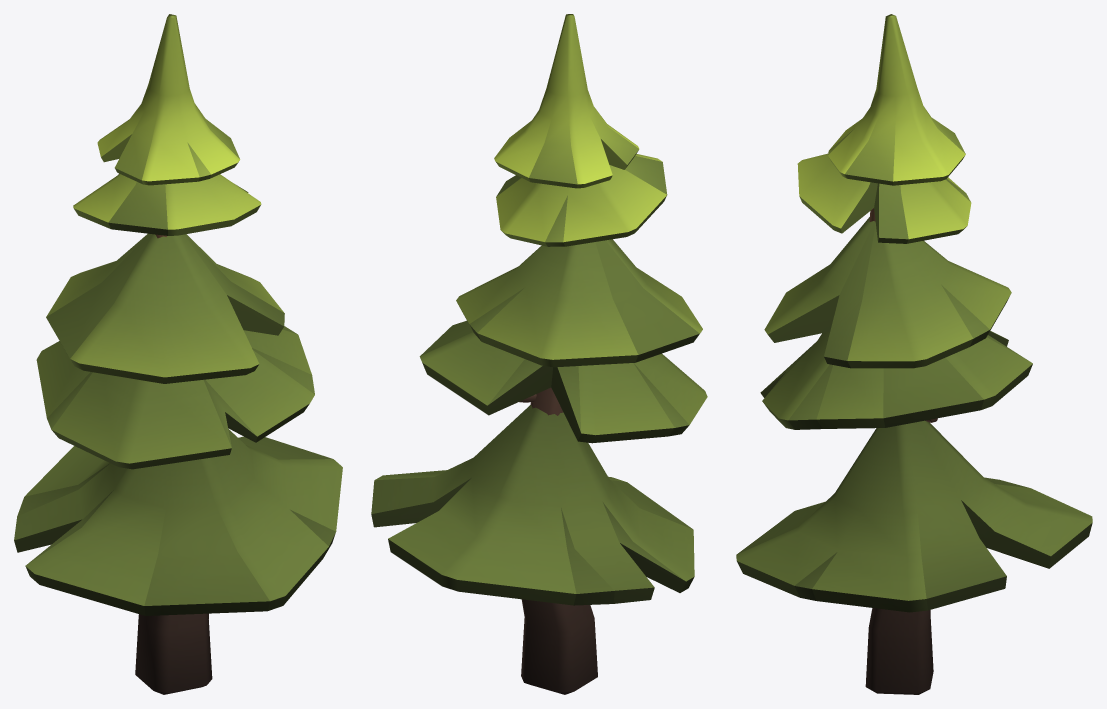
File: pine_tree_col1_04.fbx
The picture shows the model from 3 angles, left to right: view 1: azimuth 30°, elevation 25°; view 2: azimuth 150°, elevation 25°; view 3: azimuth 270°, elevation 25°; orthographic projection.
Visible parts, largest first — view 1: tree_pine_col1_04; view 2: tree_pine_col1_04; view 3: tree_pine_col1_04.
Part boxes in pixels (bbox=[...]): tree_pine_col1_04: bbox=[14, 14, 342, 694]; tree_pine_col1_04: bbox=[371, 14, 707, 694]; tree_pine_col1_04: bbox=[736, 14, 1092, 694].
Size of the model in its own units: 528 by 1086 by 526.
Materials: 1 (1 with a texture image).
